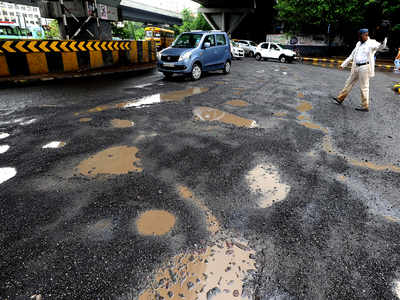pothole: (138, 230, 271, 299), (87, 75, 201, 120), (193, 95, 263, 135), (63, 148, 152, 175), (131, 201, 181, 236)
